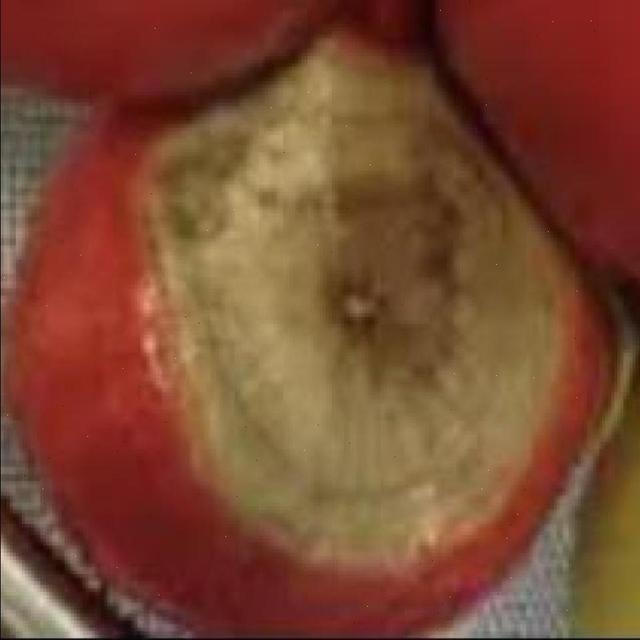Blossom End Rot Fruit: (89, 18, 379, 376)
